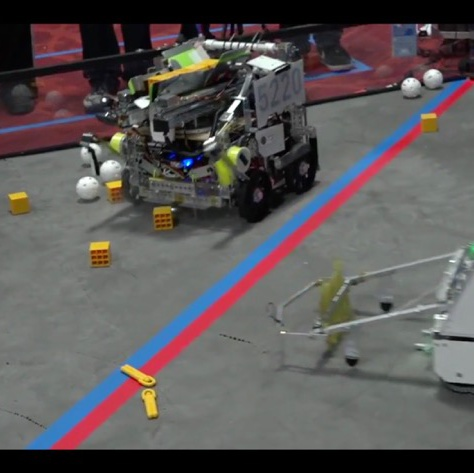robot: (77, 22, 324, 224), (260, 242, 474, 399)
